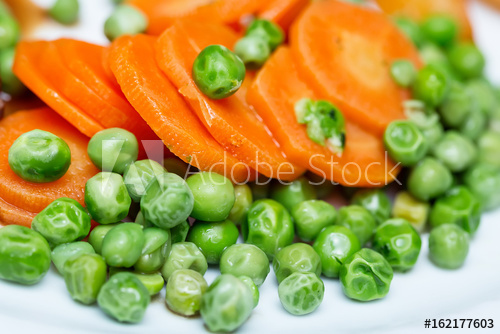boiled peas: (56, 183, 500, 333), (11, 123, 79, 186), (188, 42, 248, 103)
